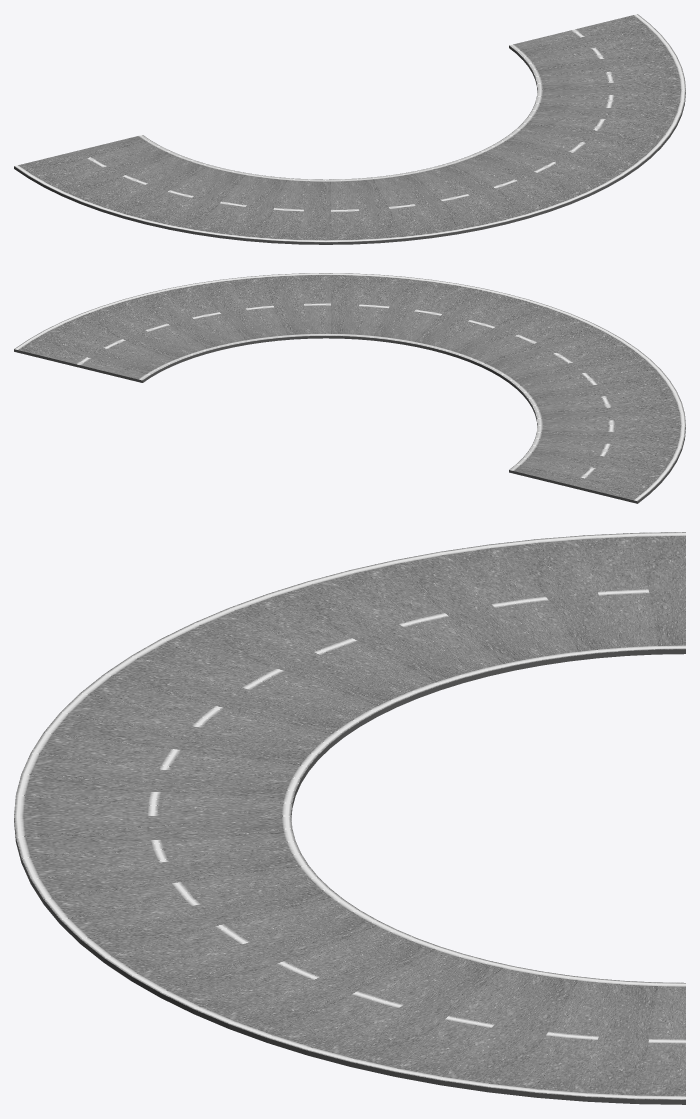
Rendered from curved_road_10.dae.
The picture shows the model from 3 angles, top to bottom: view 1: azimuth 30°, elevation 25°; view 2: azimuth 150°, elevation 25°; view 3: azimuth 270°, elevation 25°; orthographic projection. The views are drawn at different scales.
Parts seen in each view (by area): view 1: Cube; view 2: Cube; view 3: Cube.
Boxes of the visible parts, x1,y1,x2,y2 form: Cube: (14, 14, 685, 244); Cube: (14, 273, 685, 503); Cube: (14, 532, 685, 1104).
Bounding box in the file's own units: 25.2 × 12.6 × 0.1.
1 material, 1 textured.
